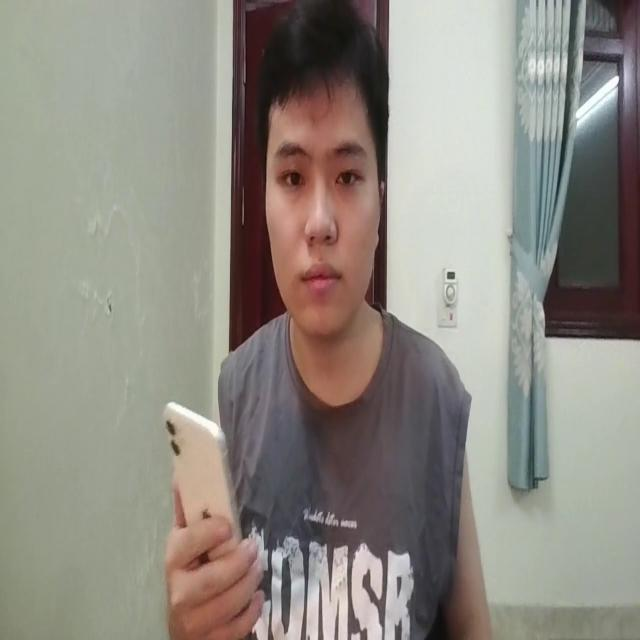phone: (166, 394, 242, 577)
student: (163, 0, 497, 640)
